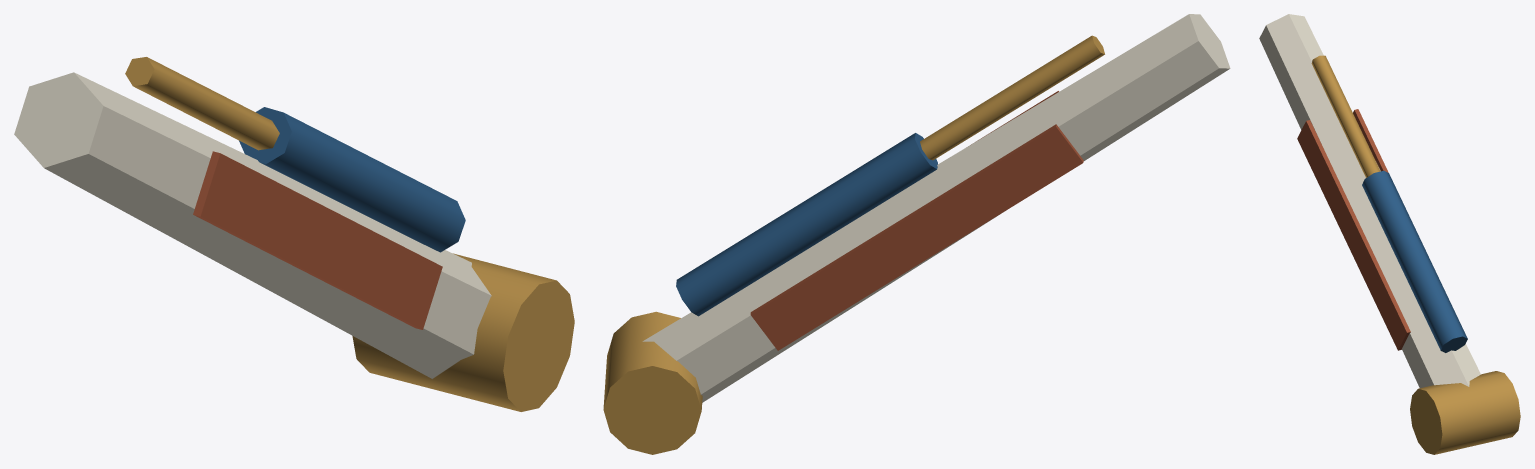
File: rm2_leg_fr_femur.obj
3 renders of one model, left to right at view 1: azimuth 30°, elevation 25°; view 2: azimuth 150°, elevation 25°; view 3: azimuth 270°, elevation 25°, orthographic. The views are drawn at different scales.
Parts seen in each view (by area): view 1: rm2_leg_fr_femur; view 2: rm2_leg_fr_femur; view 3: rm2_leg_fr_femur.
Part boxes in pixels (x1=…): rm2_leg_fr_femur: x1=14, y1=57, x2=574, y2=411; rm2_leg_fr_femur: x1=603, y1=14, x2=1230, y2=454; rm2_leg_fr_femur: x1=1259, y1=14, x2=1520, y2=454.
Size of the model in its own units: 0.549 by 0.434 by 0.3524.
